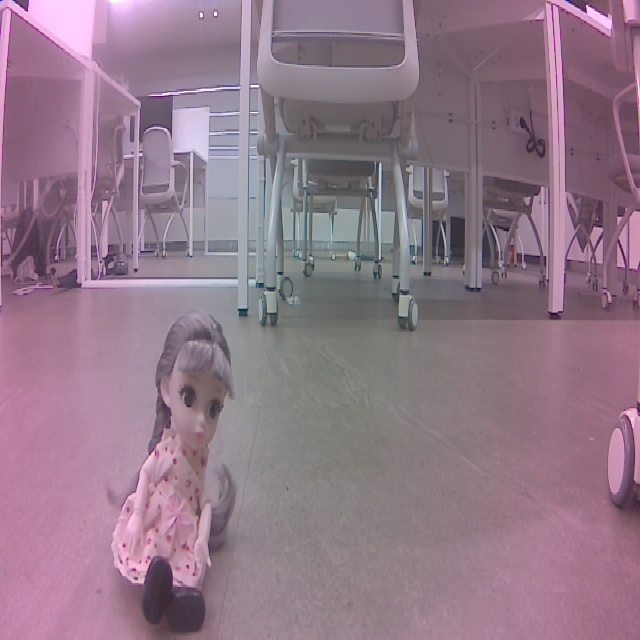장애물: (103, 309, 245, 640)
